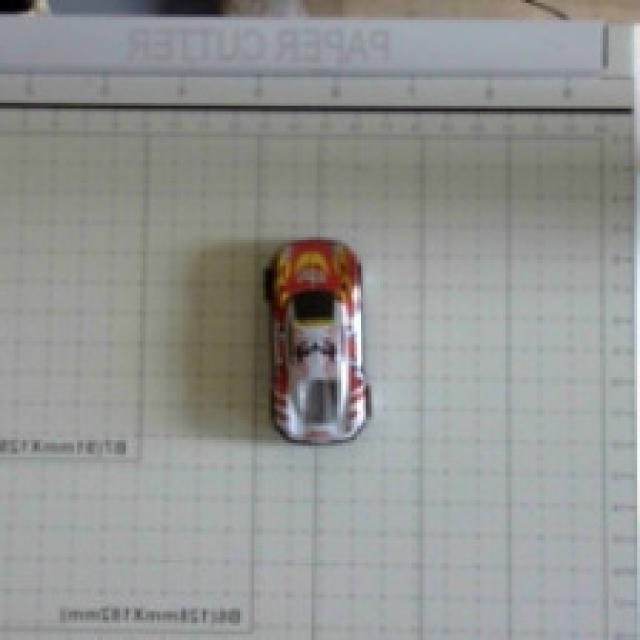Red Car: (247, 168, 430, 482)
